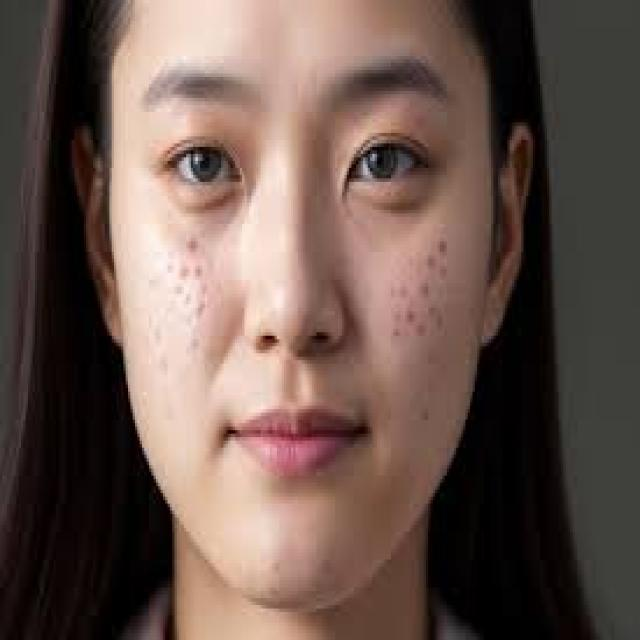Acne: (372, 217, 482, 359), (145, 222, 216, 340)
